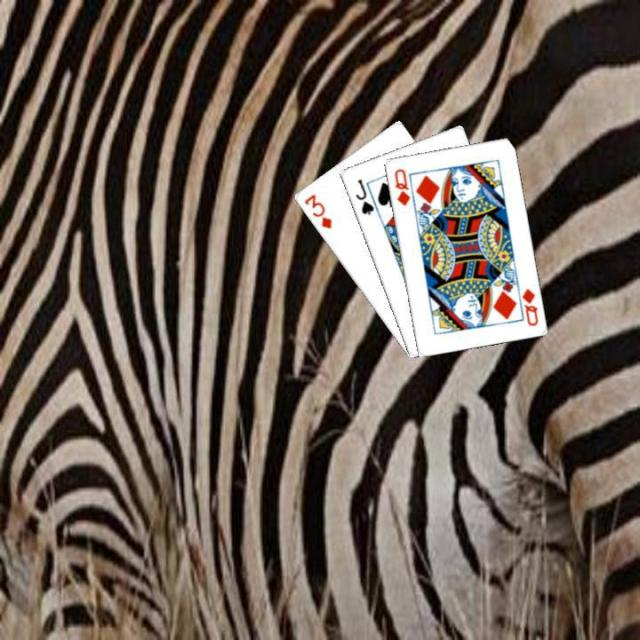3D: (300, 190, 334, 230)
JS: (351, 175, 376, 217)
QD: (390, 164, 412, 208), (518, 284, 540, 328)
